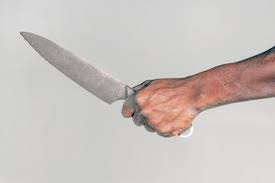knife: (19, 31, 194, 137)
